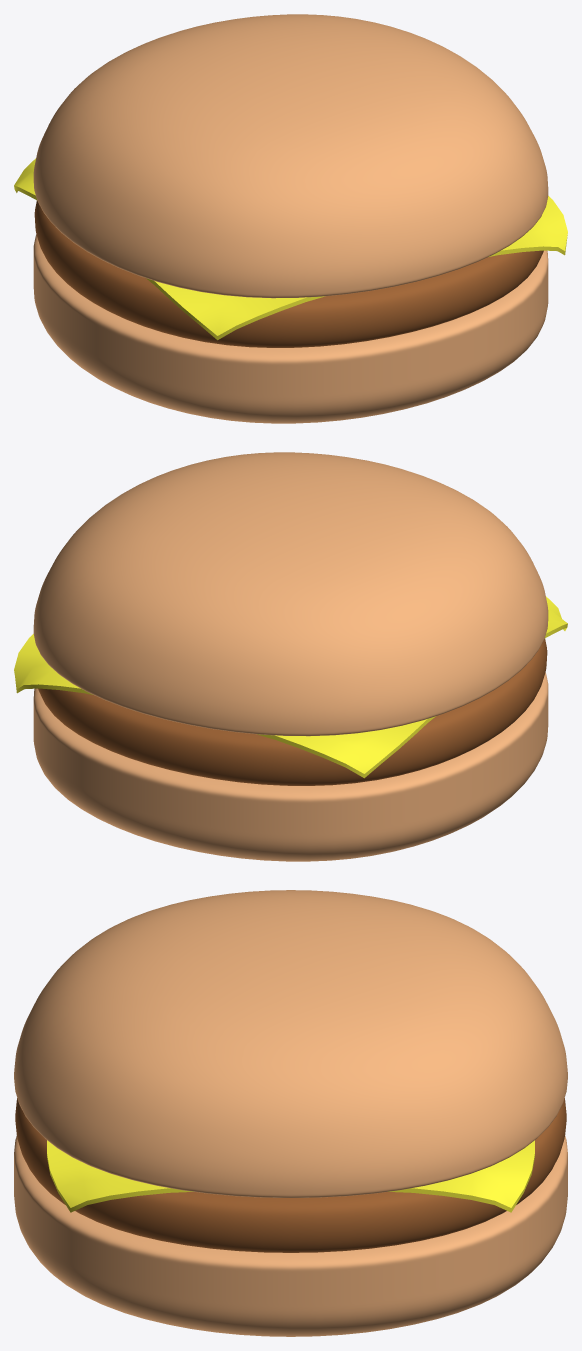
Rendered from hamburger.glb.
The picture shows the model from 3 angles, top to bottom: view 1: azimuth 30°, elevation 25°; view 2: azimuth 150°, elevation 25°; view 3: azimuth 270°, elevation 25°; orthographic projection. The views are drawn at different scales.
Parts seen in each view (by area): view 1: Cube.002, Cube, Cube.001, Plane; view 2: Cube.002, Cube, Cube.001, Plane; view 3: Cube.002, Cube, Cube.001, Plane.
Boxes of the visible parts, box(x1,y1,x2,y2) form: Cube.002: box(33, 14, 548, 298); Cube: box(33, 234, 548, 423); Cube.001: box(34, 201, 543, 347); Plane: box(14, 158, 567, 340); Cube.002: box(33, 452, 548, 736); Cube: box(33, 672, 548, 861); Cube.001: box(38, 639, 547, 785); Plane: box(14, 596, 567, 778); Cube.002: box(14, 890, 567, 1197); Cube: box(14, 1135, 567, 1336); Cube.001: box(15, 1098, 566, 1252); Plane: box(47, 1140, 534, 1212).
Size of the model in its own units: 9.06 by 5.62 by 9.06.
